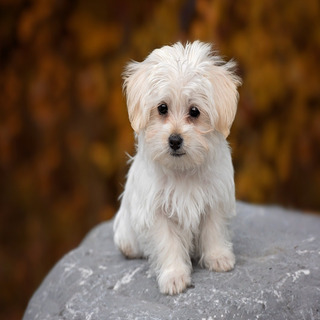perro: (108, 23, 264, 194)
